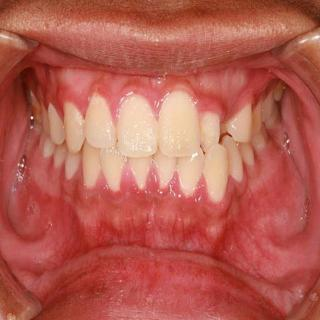LL1BC_healthy: (222, 138, 244, 181)
LL2BC_healthy: (239, 144, 256, 164)
LLCI_healthy: (153, 156, 175, 188)
LLC_healthy: (205, 145, 229, 201)
LLLI_healthy: (177, 156, 203, 194)
LR1BC_healthy: (65, 153, 81, 179)
LR2BC_healthy: (52, 145, 65, 167)
LRCI_healthy: (129, 156, 151, 189)
LRC_healthy: (83, 149, 99, 185)
LRLI_healthy: (100, 149, 123, 192)
UL1BC_mdecay: (253, 97, 263, 133)
ULCI_healthy: (158, 91, 200, 157)
ULC_healthy: (223, 103, 252, 142)
ULLI_healthy: (201, 112, 221, 151)
UR1BC_healthy: (47, 102, 64, 144)
URCI_healthy: (115, 94, 157, 157)
URC_healthy: (64, 103, 84, 152)
URLI_healthy: (85, 94, 115, 148)
